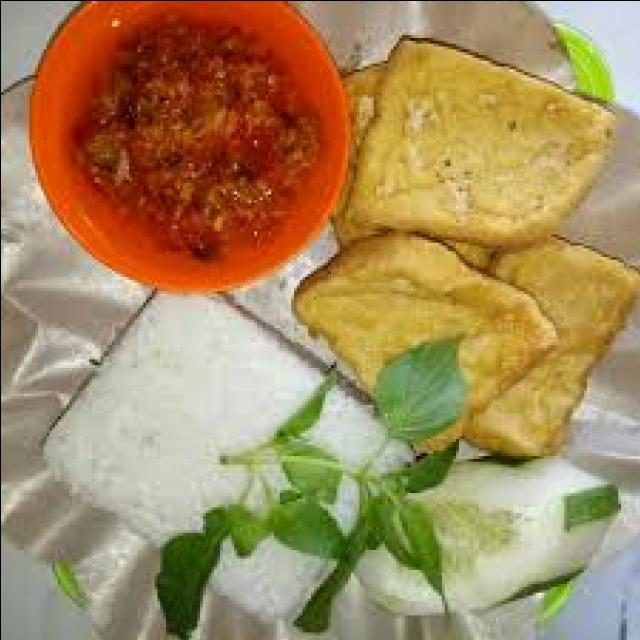tahu goreng: (330, 31, 617, 247)
